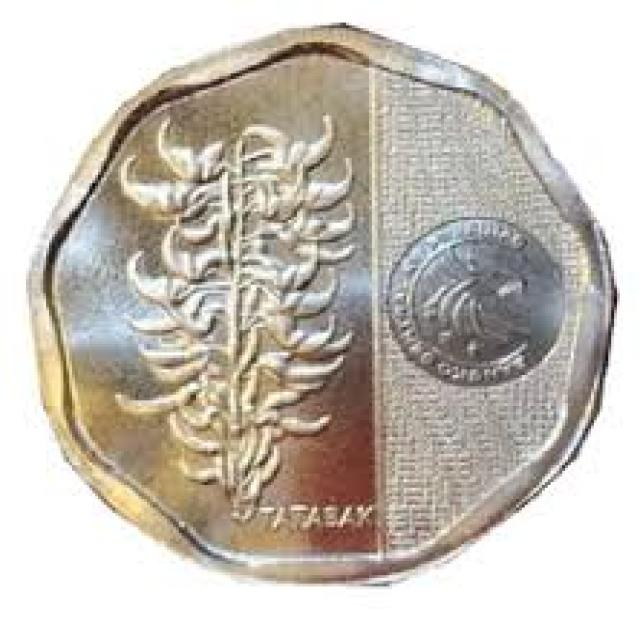5 peso: (22, 17, 625, 590)
